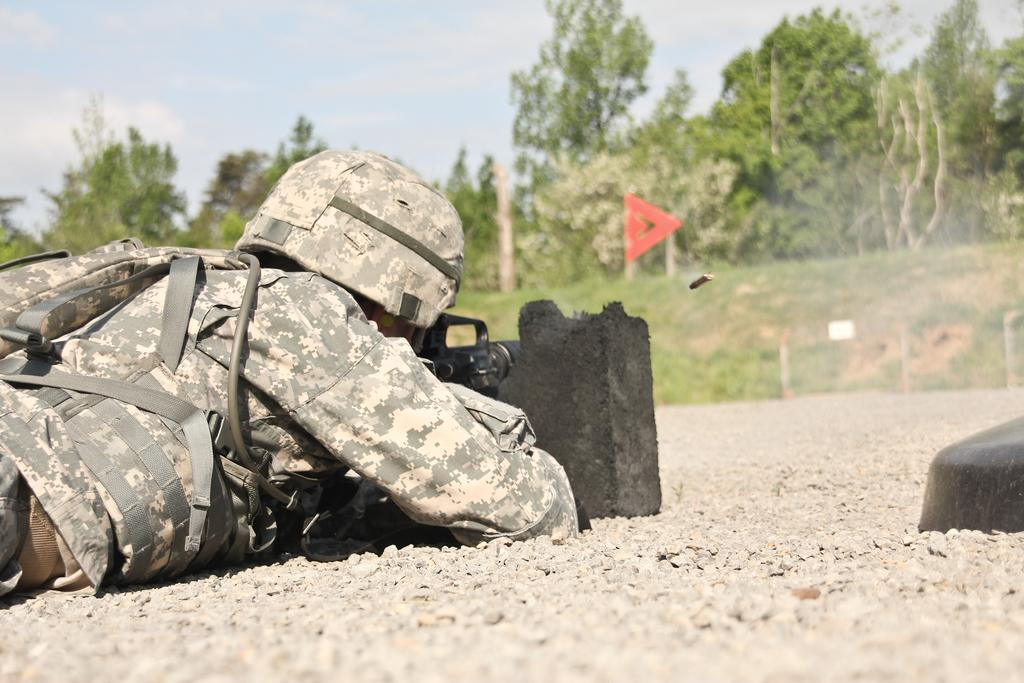non-violence: (63, 159, 560, 609)
weapon: (436, 308, 516, 394)
